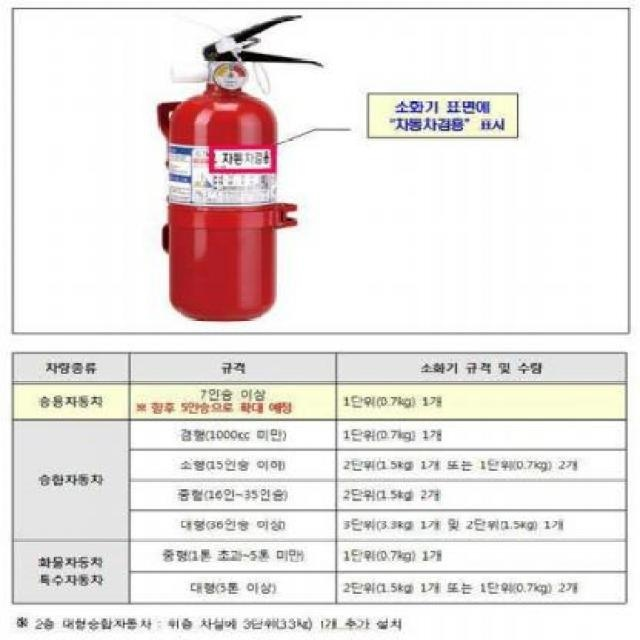fire extinguisher: (155, 15, 323, 322)
